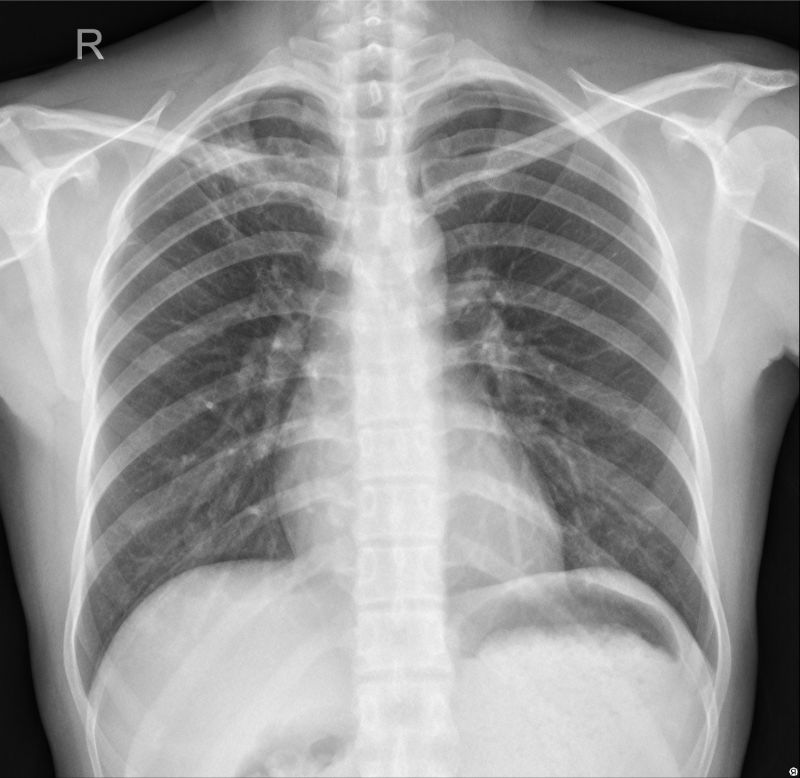Tuberculosis (TB): (178, 122, 299, 219)
